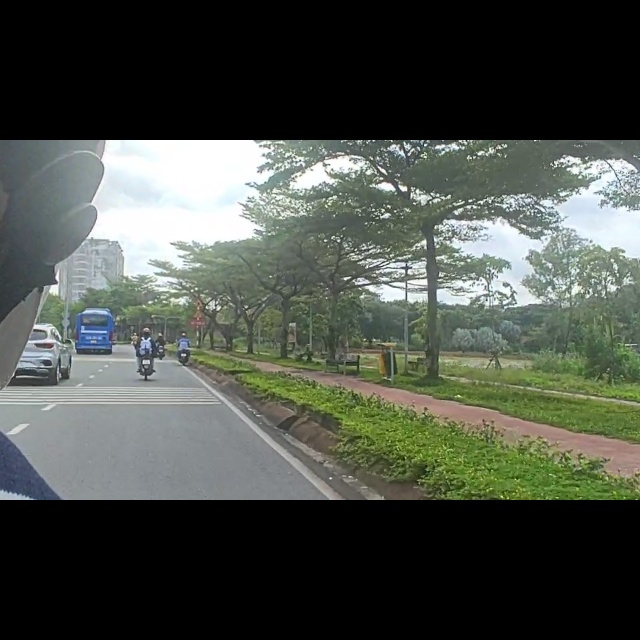bien_nguy_hiem: (192, 300, 206, 318)
